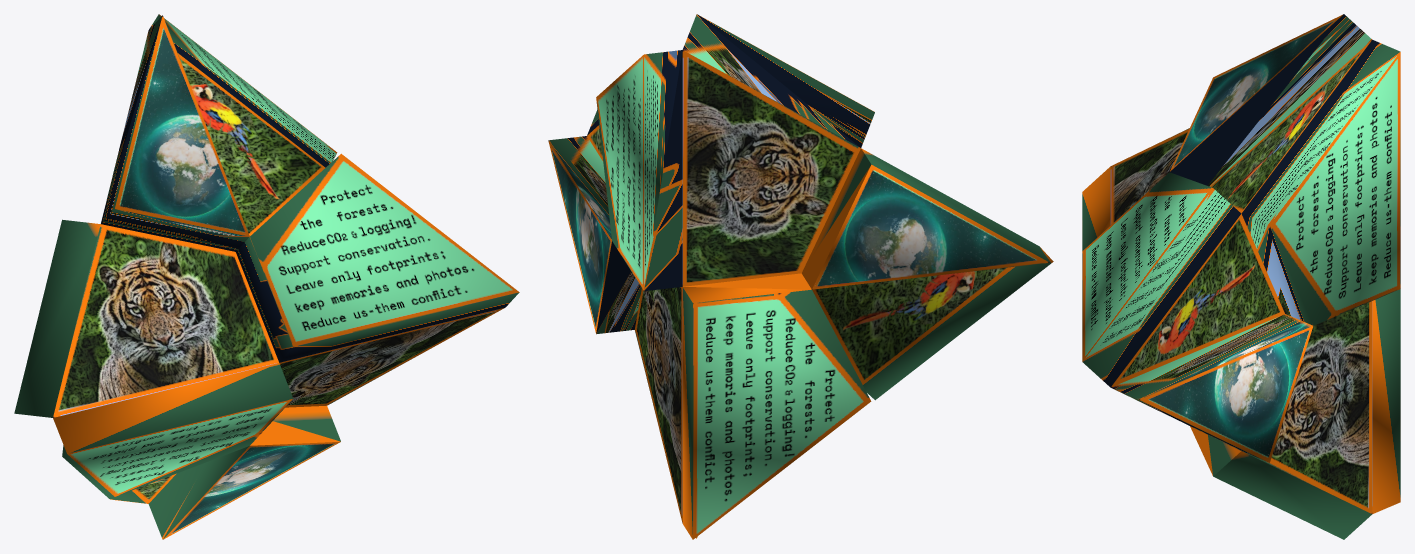
The model's file is tetraplineTex2020.obj.
3 renders of one model, left to right at view 1: azimuth 30°, elevation 25°; view 2: azimuth 150°, elevation 25°; view 3: azimuth 270°, elevation 25°, orthographic.
Parts seen in each view (by area): view 1: Cube.002_Cube; view 2: Cube.002_Cube; view 3: Cube.002_Cube.
Part boxes in pixels (x1,y1,x2,y2): Cube.002_Cube: (14, 14, 519, 539); Cube.002_Cube: (548, 14, 1053, 539); Cube.002_Cube: (1082, 14, 1400, 539).
Bounding box in the file's own units: 3.64 × 3.64 × 2.
